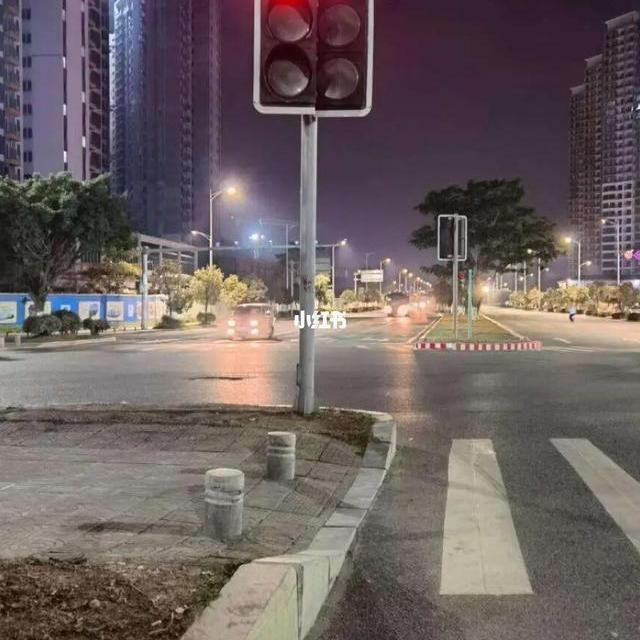curb: (181, 408, 396, 639), (415, 340, 541, 351)
